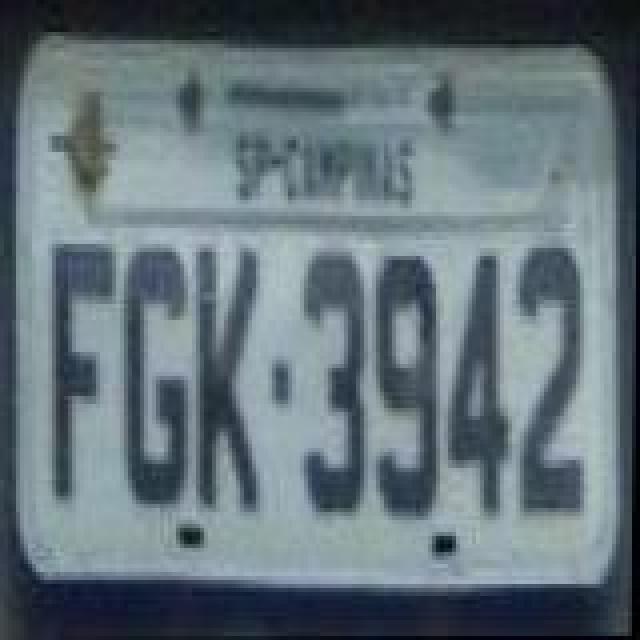2: (514, 240, 590, 520)
3: (294, 244, 370, 520)
4: (444, 246, 516, 518)
9: (370, 254, 446, 526)
F: (48, 234, 120, 502)
G: (118, 244, 194, 516)
K: (190, 242, 266, 522)
